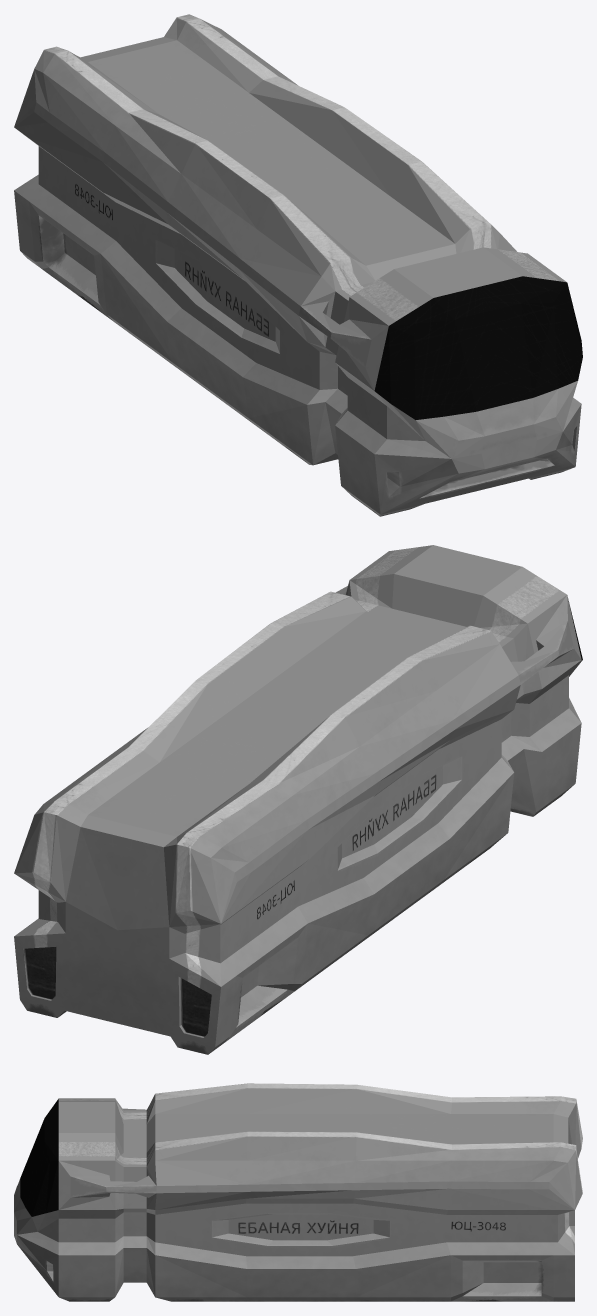
File: abstract_model.dae
The picture shows the model from 3 angles, top to bottom: view 1: azimuth 30°, elevation 25°; view 2: azimuth 150°, elevation 25°; view 3: azimuth 270°, elevation 25°; orthographic projection. The views are drawn at different scales.
Visible parts, largest first — view 1: Cube; view 2: Cube; view 3: Cube.
Part boxes in pixels (x1,y1,x2,y2): Cube: (14,14,582,516); Cube: (14,545,582,1054); Cube: (14,1083,582,1301).
Size of the model in its own units: 2.57 by 7.71 by 2.39.
1 material, 1 textured.
